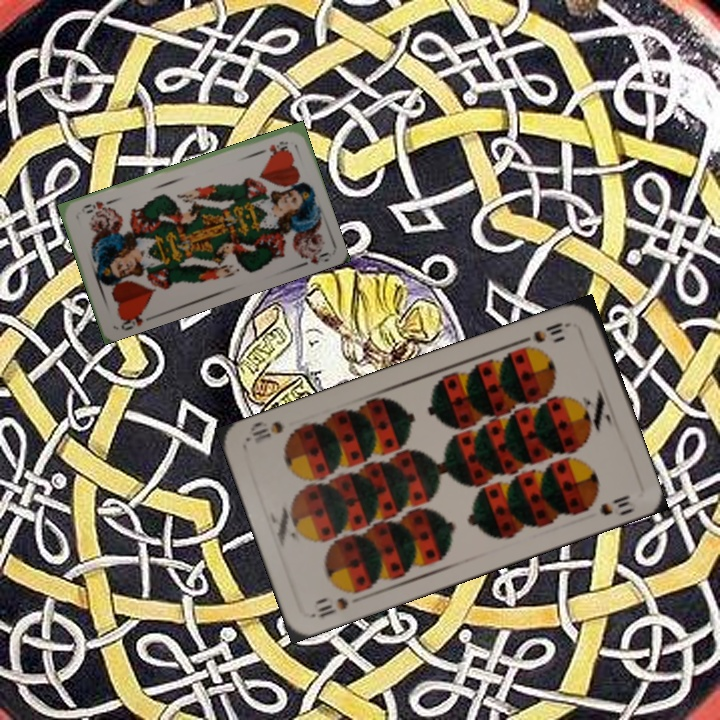HO: (116, 305, 149, 333), (254, 137, 291, 157)
S10: (308, 586, 363, 621), (529, 318, 574, 346)
